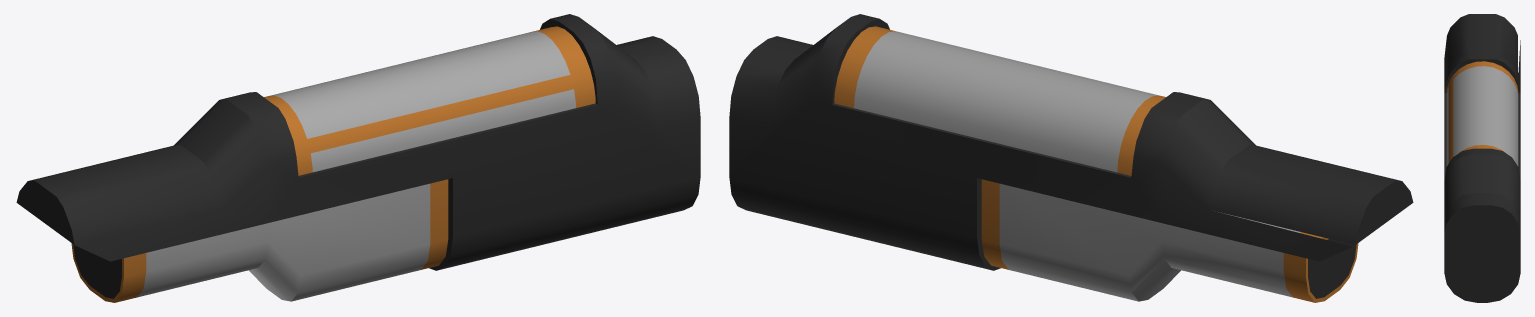
Rendered from quaternius-modular-sci-fi-guns-body-smg-1.glb.
3 renders of one model, left to right at view 1: azimuth 30°, elevation 25°; view 2: azimuth 150°, elevation 25°; view 3: azimuth 270°, elevation 25°, orthographic. The views are drawn at different scales.
Visible parts, largest first — view 1: Body_SMG_1; view 2: Body_SMG_1; view 3: Body_SMG_1.
Boxes of the visible parts, x1,y1,x2,y2 form: Body_SMG_1: (16,14,700,302); Body_SMG_1: (729,14,1413,302); Body_SMG_1: (1444,14,1520,302).
Size of the model in its own units: 0.8824 by 0.2727 by 0.153.
